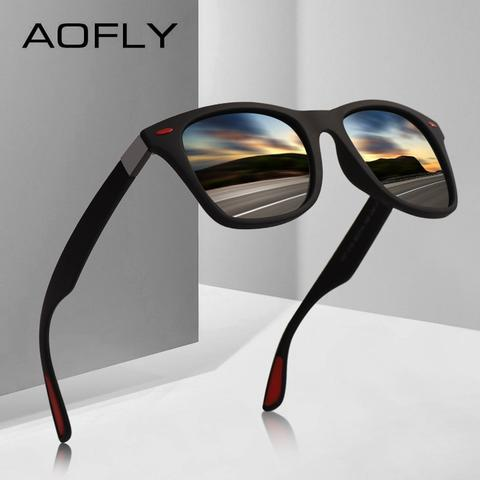sunglasses: (68, 86, 461, 355)
